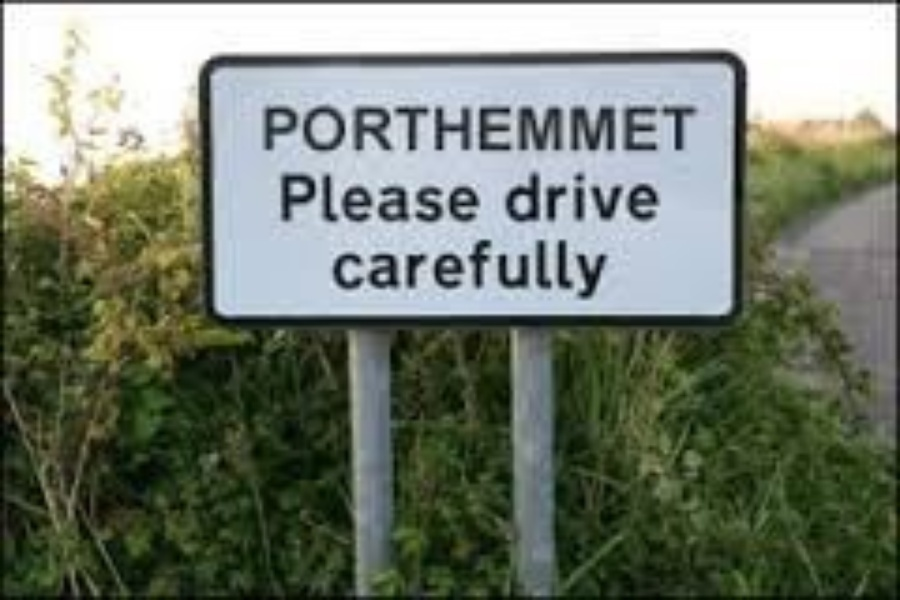text: (337, 237, 352, 301), (353, 237, 368, 301), (369, 237, 384, 301), (385, 237, 400, 301), (401, 237, 416, 301), (417, 237, 432, 301), (433, 237, 448, 301), (449, 237, 464, 301), (465, 237, 480, 301), (481, 237, 496, 301), (497, 237, 512, 301), (513, 237, 528, 301), (529, 237, 544, 301), (545, 237, 560, 301), (561, 237, 576, 301), (577, 237, 592, 301), (593, 237, 608, 301), (465, 169, 481, 222), (289, 169, 304, 222), (305, 169, 320, 222), (321, 169, 336, 222), (337, 169, 352, 222), (353, 169, 368, 222), (369, 169, 384, 222), (385, 169, 400, 222), (401, 169, 416, 222), (417, 169, 432, 222), (433, 169, 448, 222), (449, 169, 464, 222), (513, 169, 528, 222), (529, 169, 544, 222), (545, 169, 560, 222), (561, 169, 576, 222), (577, 169, 592, 222), (593, 169, 608, 222), (609, 169, 624, 222), (625, 169, 640, 222), (641, 169, 656, 222), (273, 102, 288, 151), (289, 102, 304, 151), (305, 102, 320, 151), (321, 102, 336, 151), (337, 102, 352, 151), (353, 102, 368, 151), (369, 102, 384, 151), (385, 102, 400, 151), (401, 102, 416, 151), (417, 102, 432, 151), (433, 102, 448, 151), (449, 102, 464, 151), (465, 102, 480, 151), (481, 102, 496, 151), (497, 102, 512, 151), (513, 102, 528, 151), (529, 102, 544, 151), (545, 102, 560, 151), (561, 102, 576, 151), (577, 102, 592, 151), (593, 102, 608, 151), (609, 102, 624, 151), (625, 102, 640, 151), (641, 102, 656, 151), (657, 102, 672, 151), (673, 102, 688, 151), (259, 102, 272, 151), (278, 169, 288, 222), (503, 169, 512, 222), (609, 237, 616, 301), (689, 102, 698, 151), (657, 169, 661, 222), (334, 237, 336, 301)
